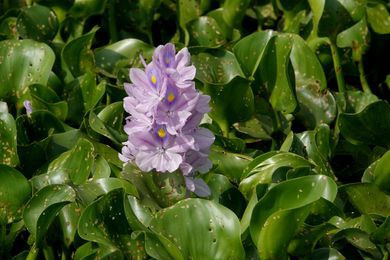water_hyacinth: (0, 0, 390, 259)
